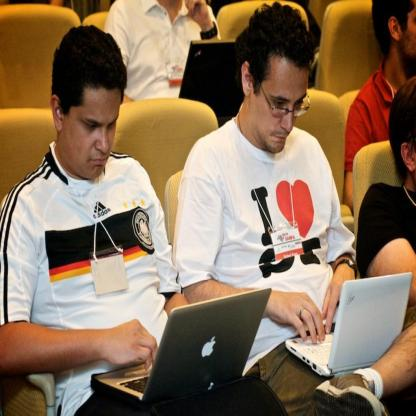board: (92, 289, 272, 406), (285, 270, 410, 375), (179, 39, 244, 126)
